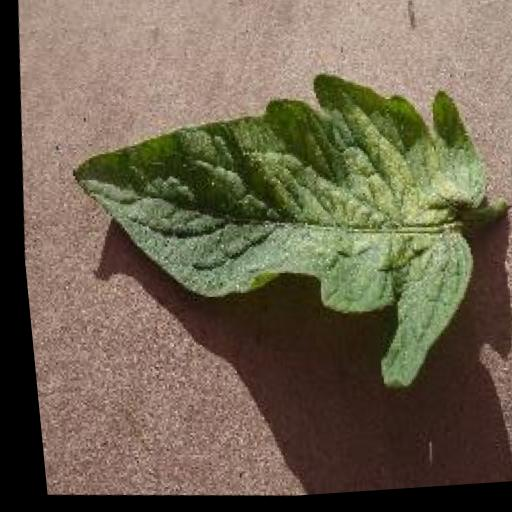Spider Mites: (46, 53, 501, 412)
